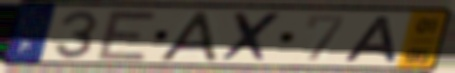3: (52, 9, 101, 60)
7: (303, 13, 348, 64)
A: (155, 10, 221, 64), (339, 15, 399, 64)
E: (93, 8, 161, 63)
X: (219, 10, 286, 64)
